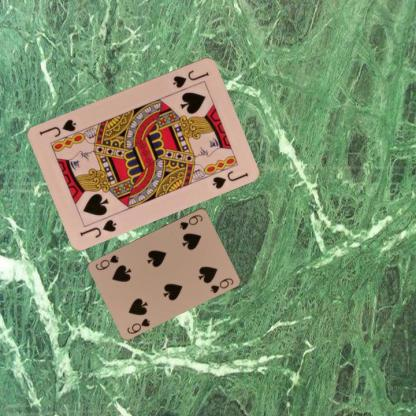6s: (177, 212, 204, 231), (124, 316, 152, 334)
Js: (77, 216, 118, 239), (170, 67, 211, 89)
